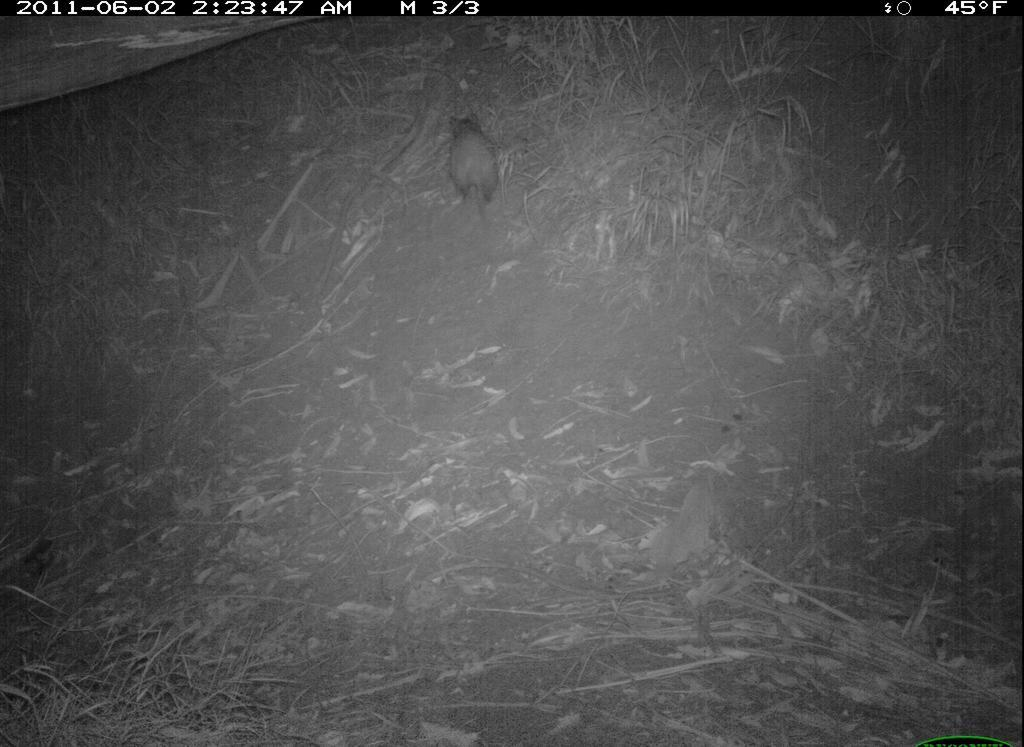opossum: (436, 109, 507, 253)
